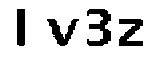3: (83, 5, 111, 50)
l: (10, 3, 36, 51)
v: (43, 14, 79, 53)
z: (117, 14, 147, 51)
